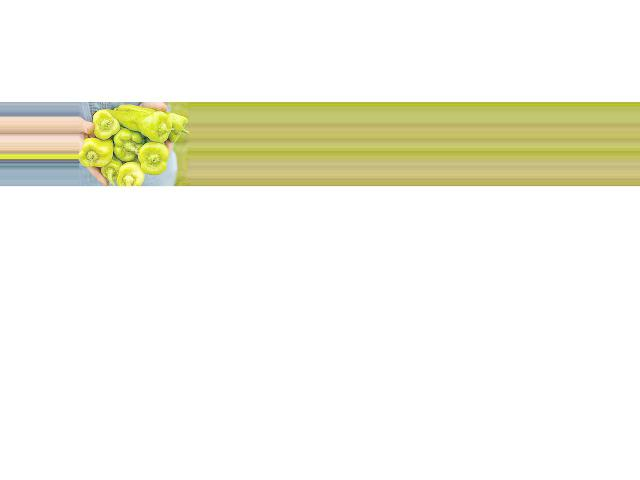bell_pepper: (79, 139, 115, 170)
